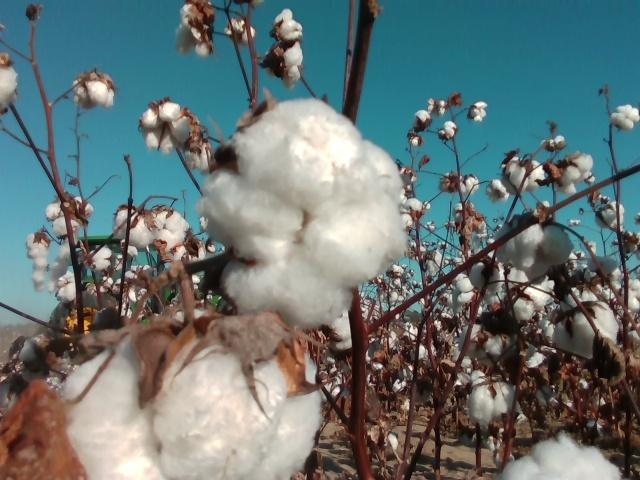cotton_ready: (202, 103, 408, 325), (56, 309, 322, 480), (501, 436, 622, 480), (494, 222, 572, 287), (550, 304, 620, 358), (139, 103, 189, 152), (470, 369, 515, 423), (508, 266, 556, 316), (174, 1, 209, 60), (155, 213, 192, 254), (116, 208, 153, 245), (502, 159, 547, 189), (273, 45, 302, 87), (72, 78, 115, 106), (270, 9, 304, 42), (0, 59, 19, 109)
